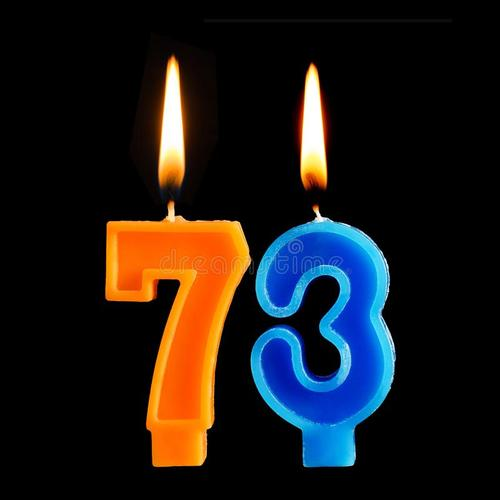Fire: (153, 55, 188, 196), (298, 60, 331, 189)
